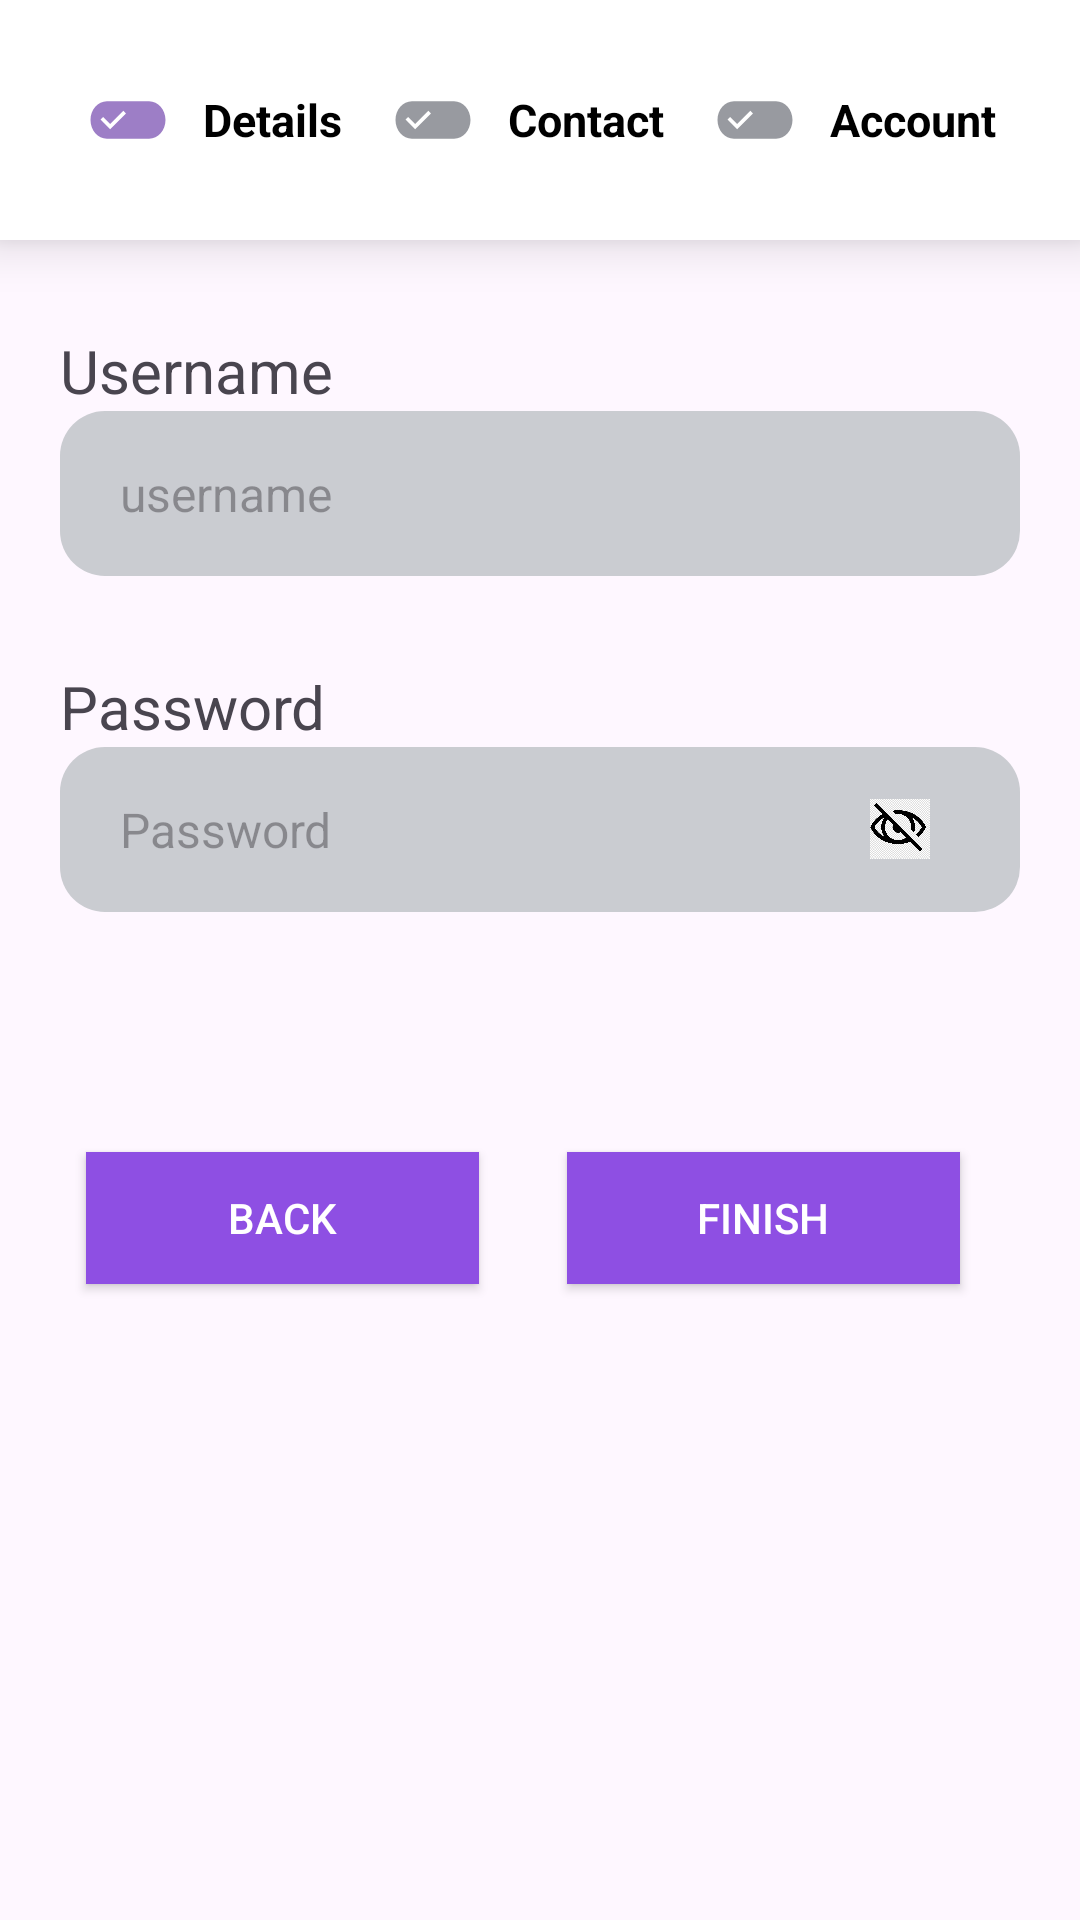

Named icons in this screenshot (1080×1920) and their centers, [x,y]:
hide passwd: [900,829]
